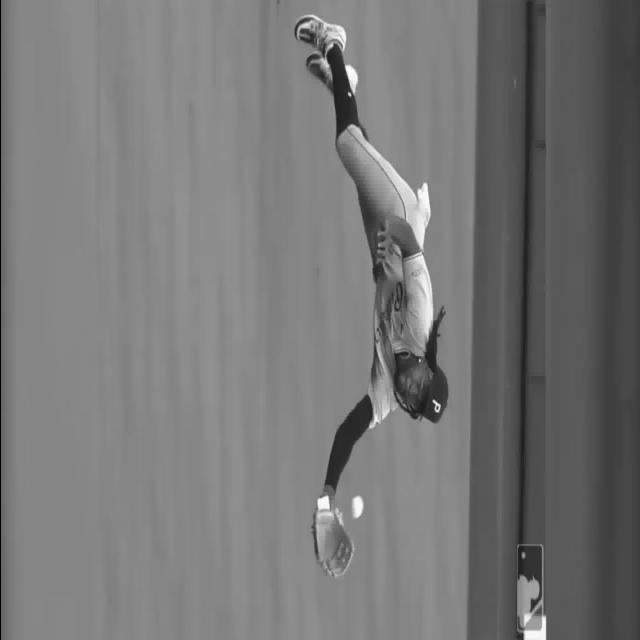baseball: (348, 494, 362, 522)
baseball_glove: (312, 506, 353, 580)
shoe: (304, 65, 356, 110), (294, 16, 346, 56)
